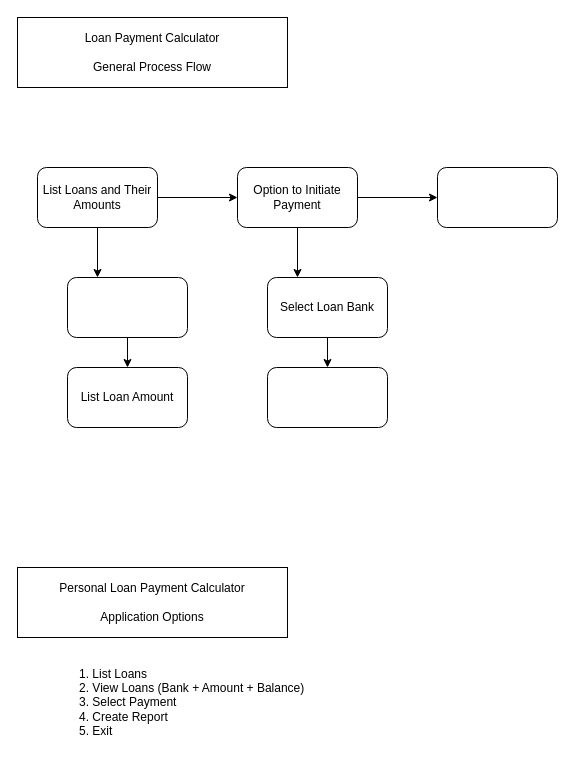
Image size: 575x765. Some labels were removed from this diagram. The centre of each missing label's shape, as x and y in pixels:
"Create a Tabulation of Loan vs Payment vs Balance Excel" belongs at (x=497, y=197).
"List Loan Bank" belongs at (x=127, y=307).
"Select Payment Amount" belongs at (x=327, y=397).
